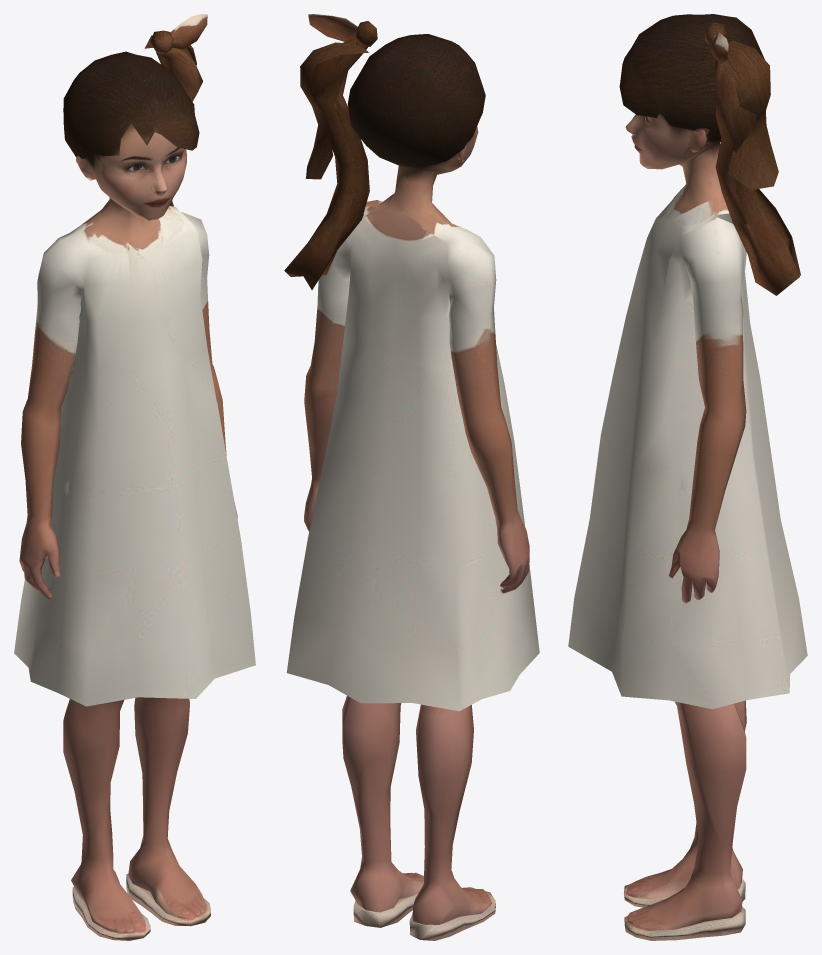
Rendered from girl.glb.
3 views of the same model, side by side, from view 1: azimuth 30°, elevation 25°; view 2: azimuth 150°, elevation 25°; view 3: azimuth 270°, elevation 25° (orthographic). The views are drawn at different scales.
Size of the model in its own units: 0.3399 by 1.3 by 0.3098.
Materials: 1 (1 with a texture image).
